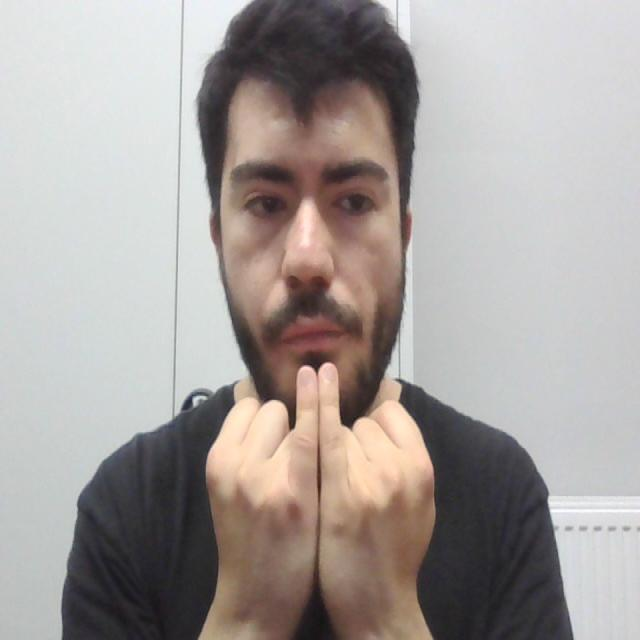Kardes: (200, 358, 437, 634)
